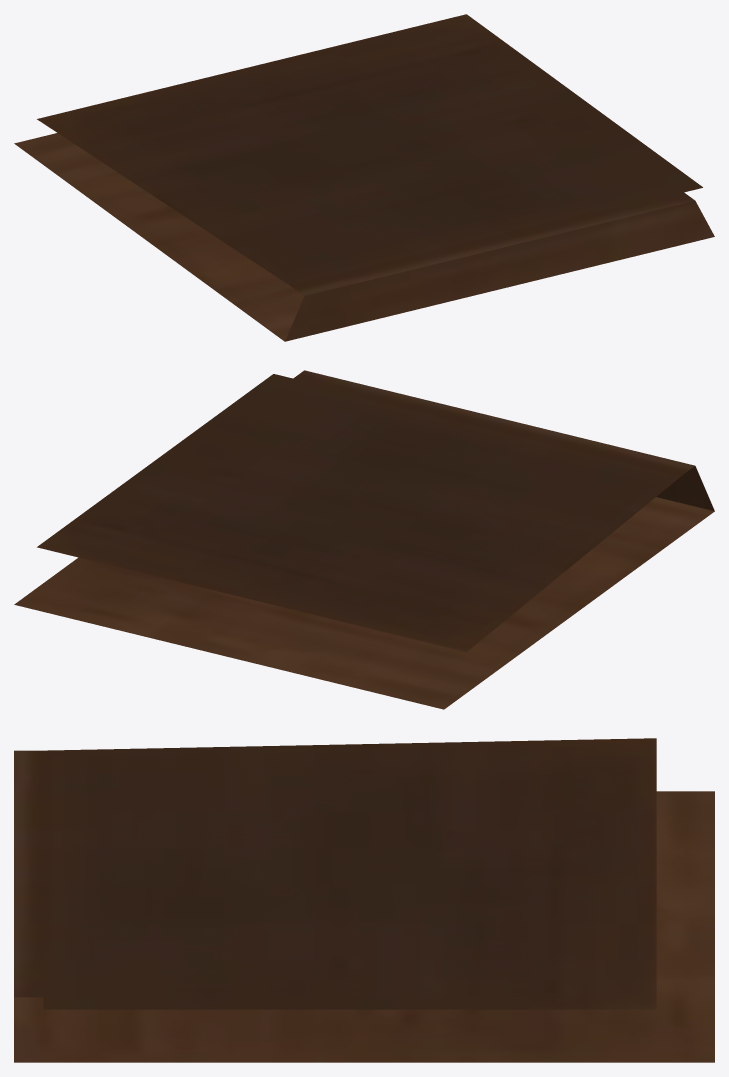
File: link_8__shelf-11.glb
The picture shows the model from 3 angles, top to bottom: view 1: azimuth 30°, elevation 25°; view 2: azimuth 150°, elevation 25°; view 3: azimuth 270°, elevation 25°; orthographic projection. The views are drawn at different scales.
Parts seen in each view (by area): view 1: geometry_0; view 2: geometry_0; view 3: geometry_0.
Part boxes in pixels (x1,y1,x2,y2): geometry_0: (14, 14, 714, 341); geometry_0: (14, 370, 714, 709); geometry_0: (14, 738, 714, 1062).
Bounding box in the file's own units: 0.1155 × 0.0105 × 0.126.
1 material, 1 textured.
